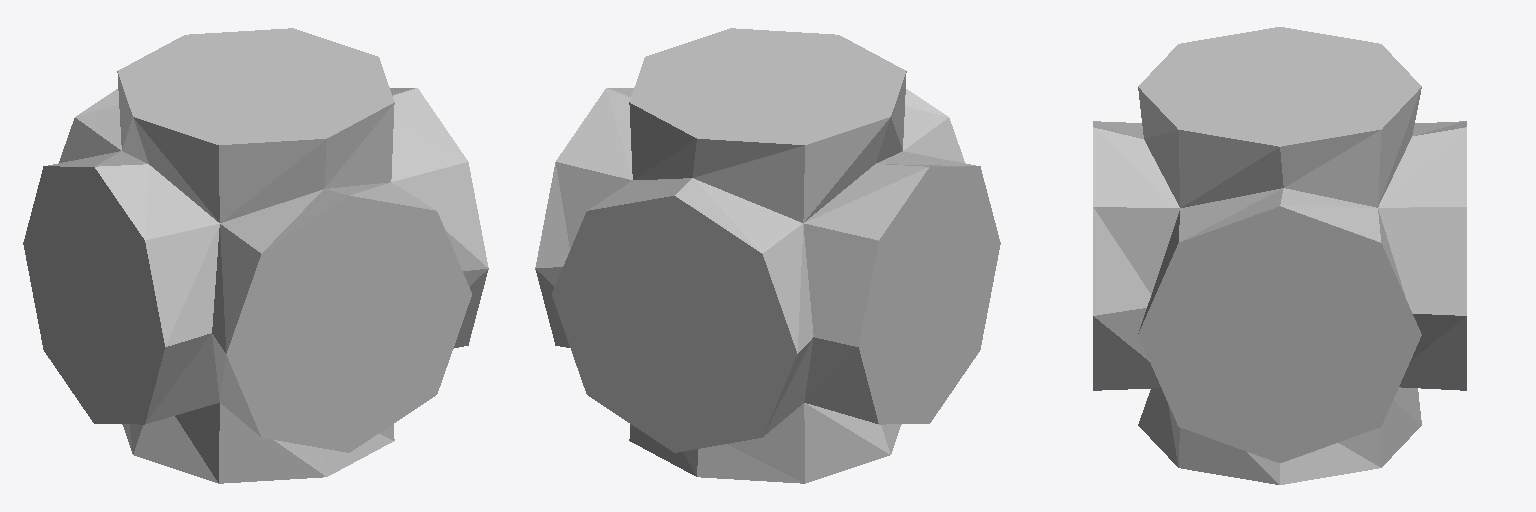
The model's file is 5 branches.obj.
3 views of the same model, side by side, from view 1: azimuth 30°, elevation 25°; view 2: azimuth 150°, elevation 25°; view 3: azimuth 270°, elevation 25° (orthographic).
Visible parts, largest first — view 1: 5_branches_Cube.013; view 2: 5_branches_Cube.013; view 3: 5_branches_Cube.013.
Boxes of the visible parts, x1,y1,x2,y2 form: 5_branches_Cube.013: [23, 28, 488, 483]; 5_branches_Cube.013: [535, 28, 1000, 483]; 5_branches_Cube.013: [1093, 27, 1466, 484].
Size of the model in its own units: 2 by 2 by 2.